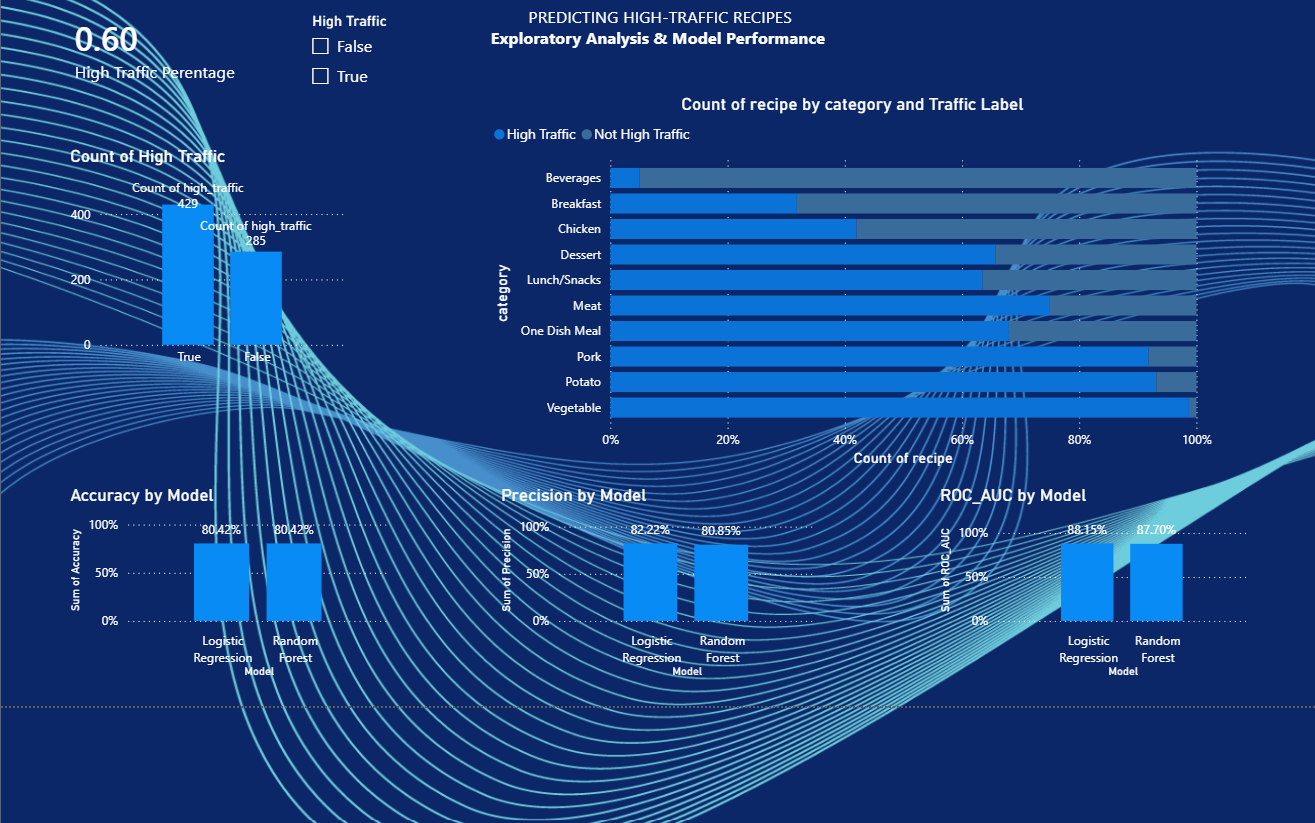

The dashboard page shown, as its layout file describes it:
{"tool":"powerbi","page":{"name":"Predicting High-Traffic Recipes","canvas":[1280,720],"ordinal":0},"visuals":[{"type":"clusteredColumnChart","fields":{"Y":["CountNonNull(clean_data (2).high_traffic)"],"Category":["clean_data (2).high_traffic"]},"box":[53.5,167.3,278.2,223.7],"z":0},{"type":"cardVisual","fields":{"Data":["recipes._High Traffic %"]},"box":[145.9,29.2,248,109.9],"z":1000},{"type":"slicer","fields":{"Values":["clean_data (2).high_traffic"]},"box":[26.3,46.7,131.3,103.1],"z":2000},{"type":"pythonVisual","fields":{"Values":["recipes.protein","recipes.carbohydrate","recipes.calories","recipes.sugar"]},"box":[0,432.8,357,275.3],"z":3000},{"type":"hundredPercentStackedBarChart","fields":{"Category":["recipes.category"],"Y":["CountNonNull(recipes.recipe)"],"Series":["recipes.Traffic Label"]},"box":[474.7,124.5,709.1,366.7],"z":3001},{"type":"clusteredColumnChart","title":"Accuracy by Model","fields":{"Category":["Table.Model"],"Y":["Sum(Table.Accuracy)"]},"box":[348.2,508.7,321,158.5],"z":3002},{"type":"clusteredColumnChart","title":"Precision by Model","fields":{"Category":["Table.Model"],"Y":["Sum(Table.Precision)"]},"box":[669.2,503.8,320,163.4],"z":3003},{"type":"clusteredColumnChart","title":"ROC_AUC by Model","fields":{"Category":["Table.Model"],"Y":["Sum(Table.ROC_AUC)"]},"box":[977.5,500.9,302.5,166.3],"z":3004},{"type":"textbox","box":[453.3,33.1,373.5,54.5],"z":3005}]}

Visuals, with their boxes on the page's 1280x720 design canvas (x1, y1, x2, y2). These are canvas units, not pixel positions in the 1315x823 screenshot, which may show the page scaled, cropped or inside an application window:
clusteredColumnChart - CountNonNull(clean_data (2).high_traffic) x clean_data (2).high_traffic: (54, 167, 332, 391)
cardVisual - recipes._High Traffic %: (146, 29, 394, 139)
slicer - clean_data (2).high_traffic: (26, 47, 158, 150)
pythonVisual - recipes.protein x recipes.carbohydrate: (0, 433, 357, 708)
hundredPercentStackedBarChart - recipes.category x CountNonNull(recipes.recipe): (475, 124, 1184, 491)
"Accuracy by Model" clusteredColumnChart: (348, 509, 669, 667)
"Precision by Model" clusteredColumnChart: (669, 504, 989, 667)
"ROC_AUC by Model" clusteredColumnChart: (978, 501, 1280, 667)
textbox: (453, 33, 827, 88)
